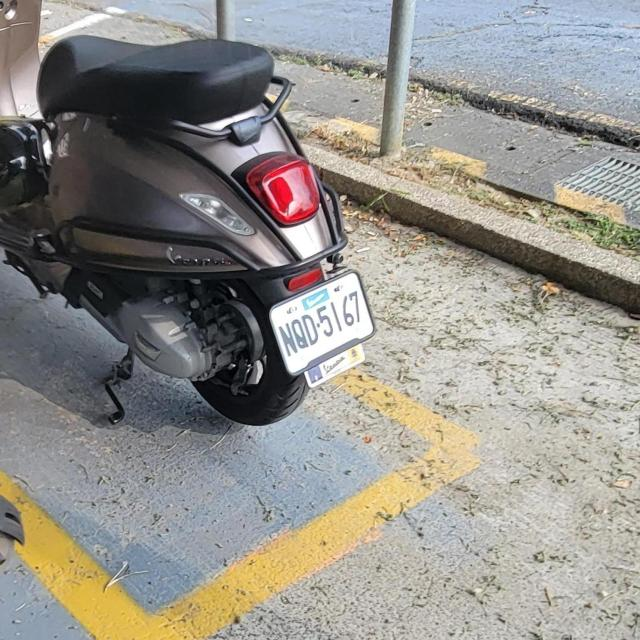W: (263, 268, 380, 380)
